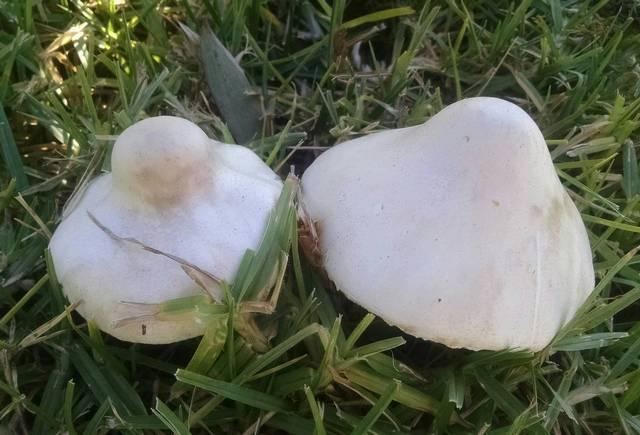poisonous_mushroom: (295, 94, 596, 355), (45, 113, 295, 349)
